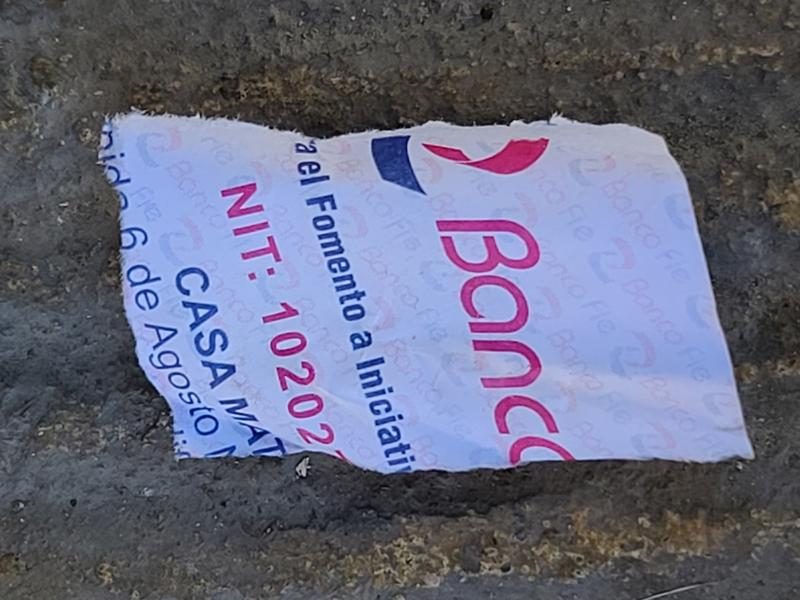papel: (97, 113, 756, 477)
